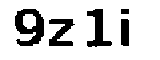1: (80, 5, 114, 52)
9: (14, 5, 45, 52)
i: (117, 4, 134, 49)
z: (45, 15, 76, 51)
